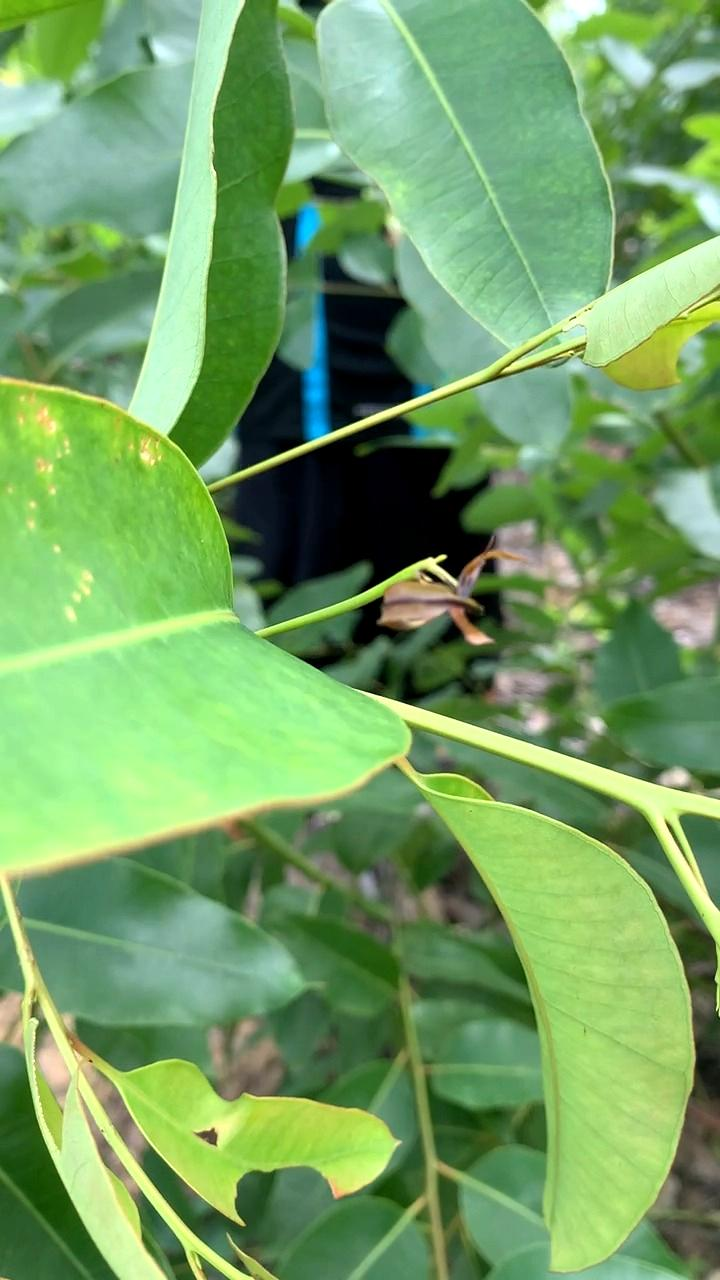Helopeltis-Withered Sprout: (375, 543, 517, 661)
